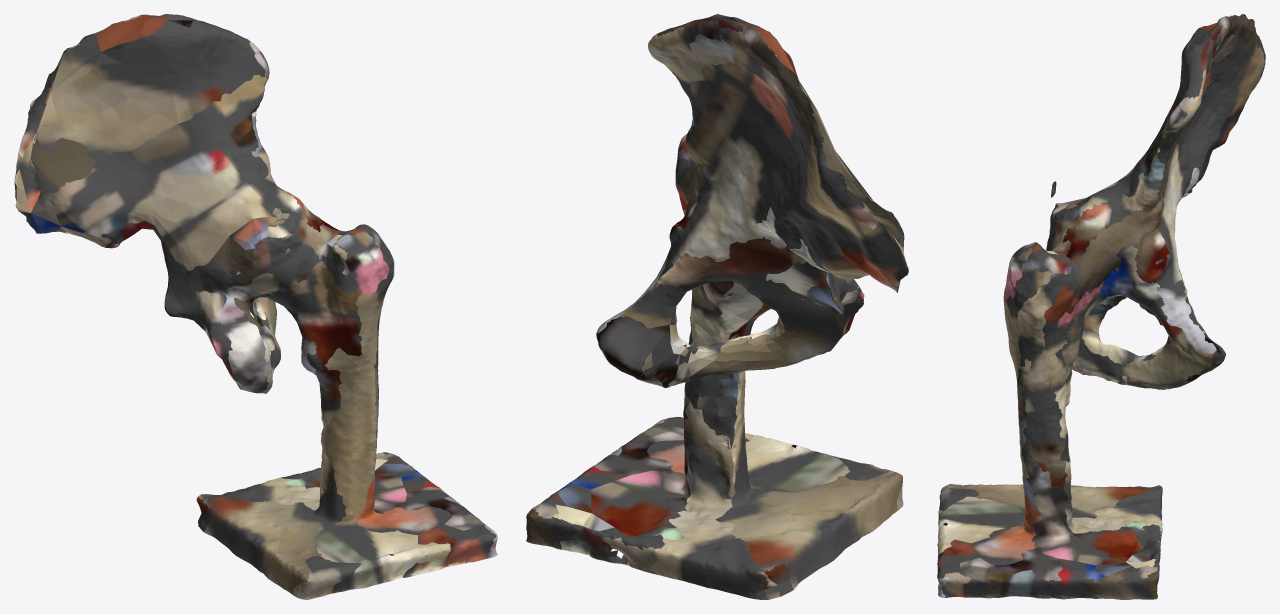
Rendered from hip.fbx.
3 renders of one model, left to right at view 1: azimuth 30°, elevation 25°; view 2: azimuth 150°, elevation 25°; view 3: azimuth 270°, elevation 25°, orthographic. The views are drawn at different scales.
Visible parts, largest first — view 1: Scaniverse.001; view 2: Scaniverse.001; view 3: Scaniverse.001.
Boxes of the visible parts, bbox=[...] form: Scaniverse.001: bbox=[14, 14, 497, 599]; Scaniverse.001: bbox=[526, 14, 908, 599]; Scaniverse.001: bbox=[937, 14, 1265, 599].
Size of the model in its own units: 21.5 by 29.12 by 18.12.
